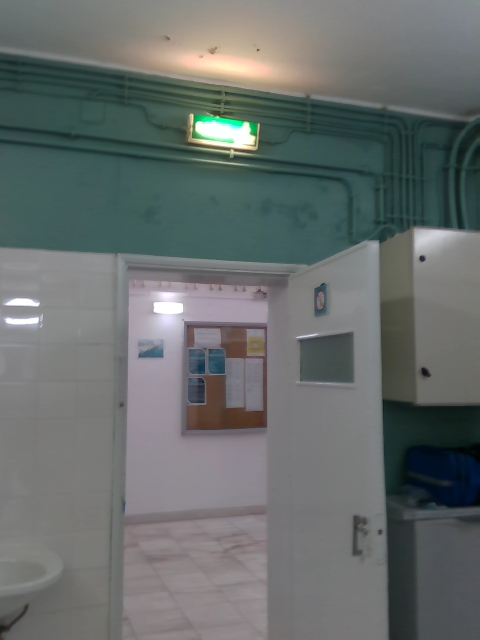open: (104, 240, 389, 639)
